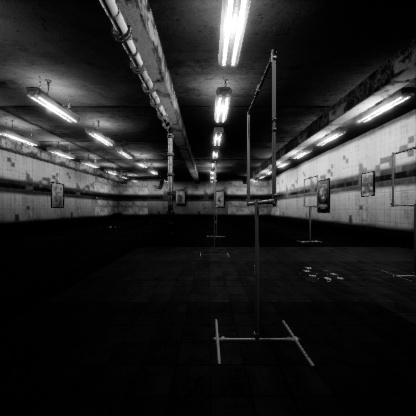gate: (251, 209, 283, 372), (392, 208, 416, 280), (304, 208, 319, 241), (215, 208, 217, 254), (216, 208, 217, 235)
